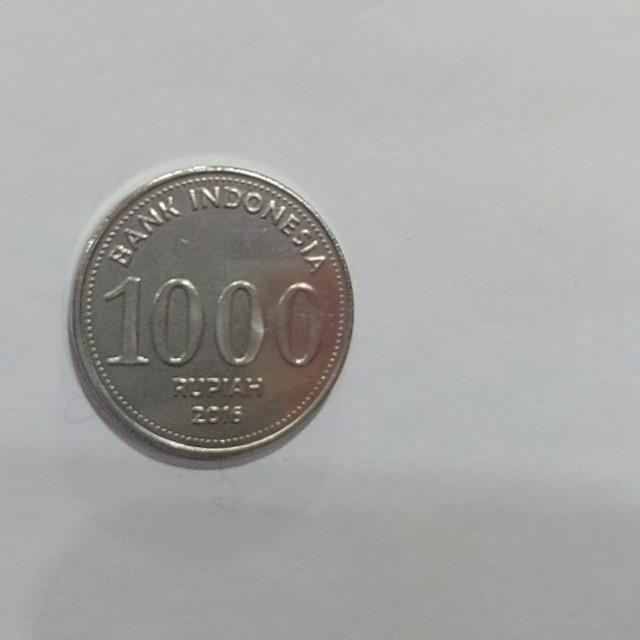Rp100: (66, 162, 355, 469)
